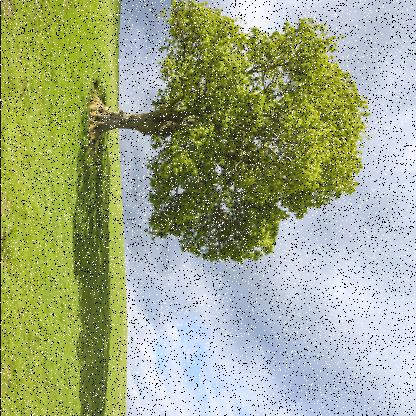Tree: (88, 0, 366, 263)
